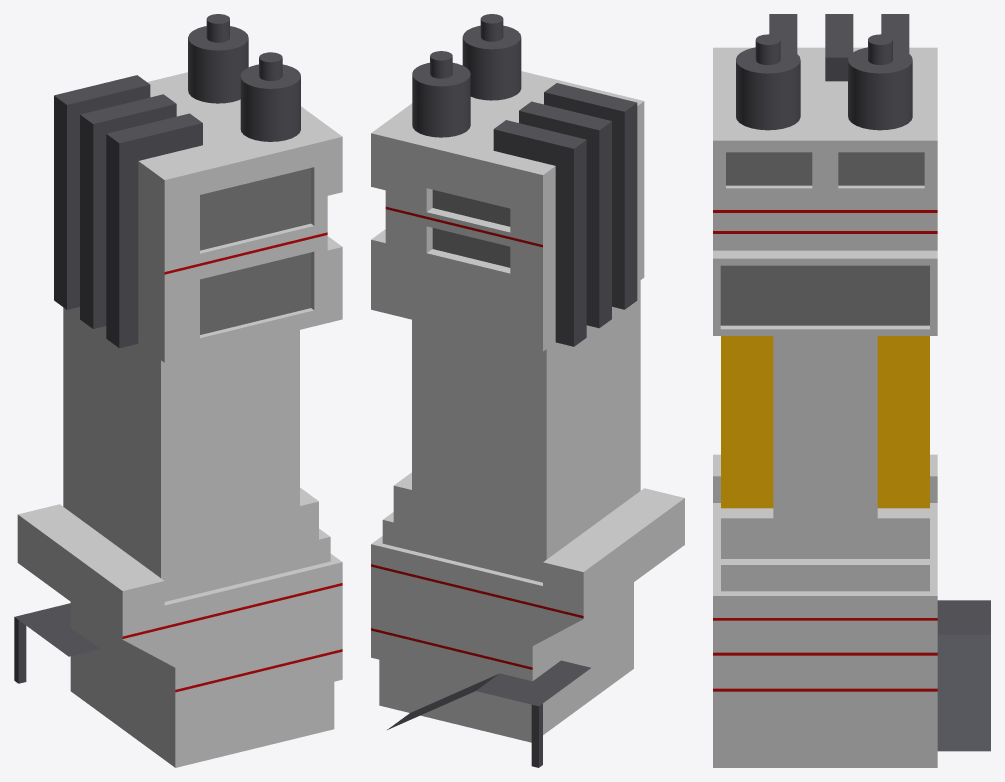
Rendered from Punk1last.fbx.
3 views of the same model, side by side, from view 1: azimuth 30°, elevation 25°; view 2: azimuth 150°, elevation 25°; view 3: azimuth 270°, elevation 25° (orthographic). The views are drawn at different scales.
Parts seen in each view (by area): view 1: punk2_1; view 2: punk2_1; view 3: punk2_1.
Boxes of the visible parts, bbox=[...] form: punk2_1: bbox=[14, 14, 342, 767]; punk2_1: bbox=[371, 14, 684, 767]; punk2_1: bbox=[713, 14, 990, 767].
Size of the model in its own units: 1770 by 5090 by 1808.
